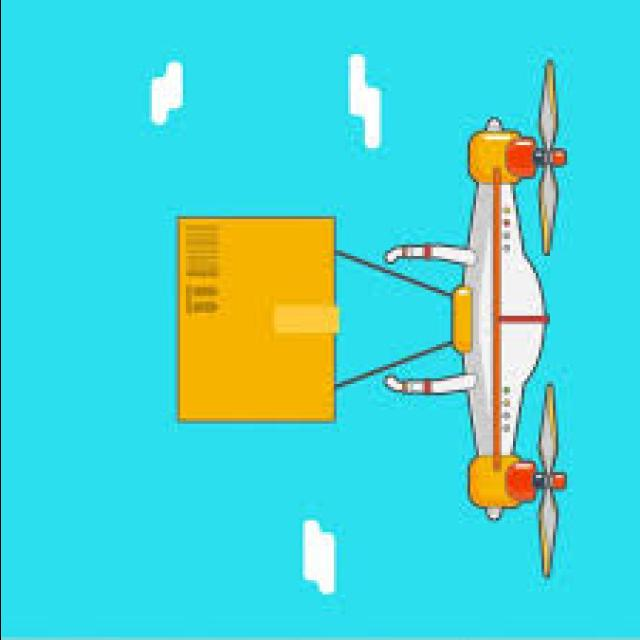drone: (366, 41, 592, 573)
